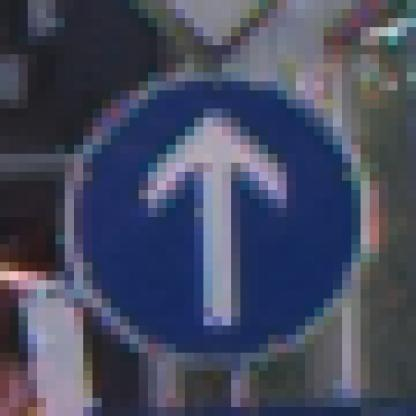AheadOnly: (57, 55, 362, 372)
